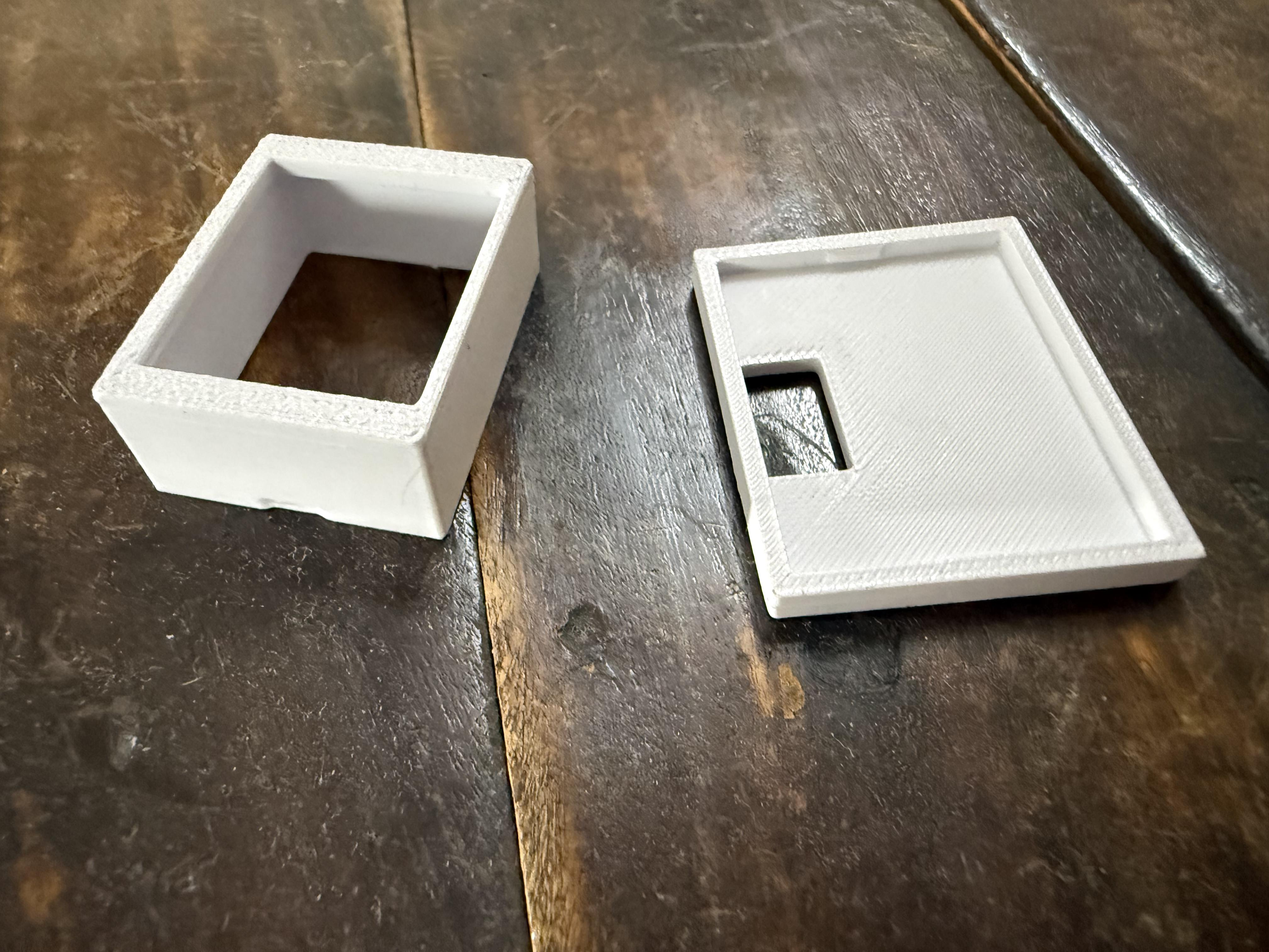enclosure: (691, 216, 1207, 619), (90, 133, 540, 539)
